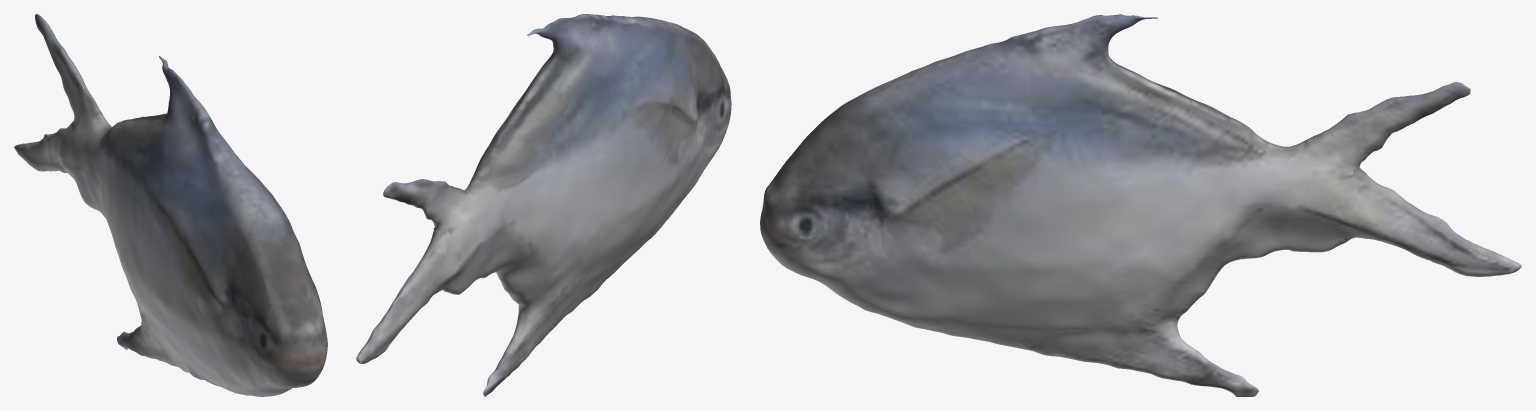
3 views of the same model, side by side, from view 1: azimuth 30°, elevation 25°; view 2: azimuth 150°, elevation 25°; view 3: azimuth 270°, elevation 25° (orthographic). The views are drawn at different scales.
Parts seen in each view (by area): view 1: tripo_8656971c-8831-4f5e-8383-34ed6a32b0d7; view 2: tripo_8656971c-8831-4f5e-8383-34ed6a32b0d7; view 3: tripo_8656971c-8831-4f5e-8383-34ed6a32b0d7.
Boxes of the visible parts, bbox=[...] form: tripo_8656971c-8831-4f5e-8383-34ed6a32b0d7: bbox=[14, 14, 327, 396]; tripo_8656971c-8831-4f5e-8383-34ed6a32b0d7: bbox=[356, 14, 731, 396]; tripo_8656971c-8831-4f5e-8383-34ed6a32b0d7: bbox=[760, 14, 1521, 396].
Size of the model in its own units: 13.13 by 41.54 by 75.55.
Materials: 1 (1 with a texture image).
